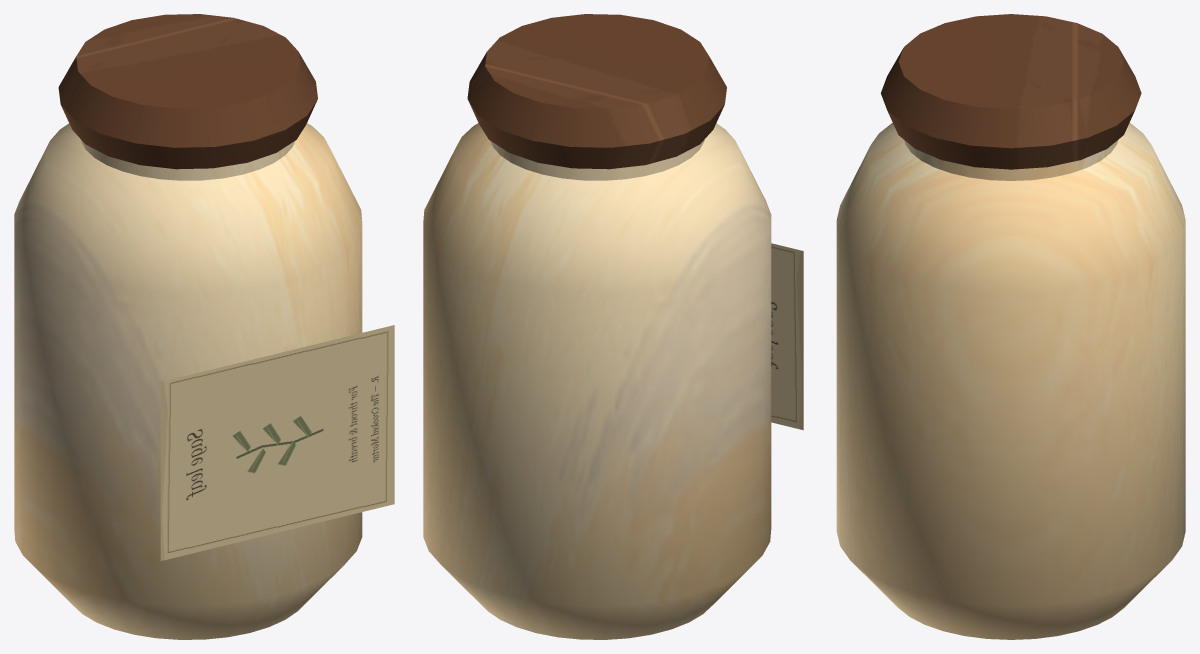
Rendered from CM_HR02_CounterJar.fbx.
The picture shows the model from 3 angles, left to right: view 1: azimuth 30°, elevation 25°; view 2: azimuth 150°, elevation 25°; view 3: azimuth 270°, elevation 25°; orthographic projection.
Parts seen in each view (by area): view 1: CM_HR02_CounterJar; view 2: CM_HR02_CounterJar; view 3: CM_HR02_CounterJar.
Boxes of the visible parts, x1,y1,x2,y2 form: CM_HR02_CounterJar: (14,14,394,639); CM_HR02_CounterJar: (423,14,803,639); CM_HR02_CounterJar: (836,14,1185,639).
Bounding box in the file's own units: 0.168 × 0.28 × 0.1701.
